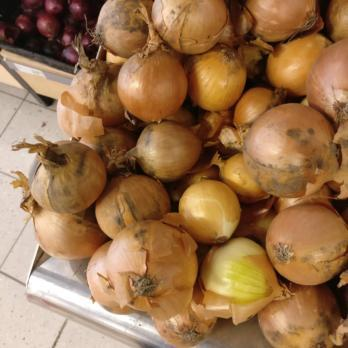Onion: (92, 0, 348, 348), (15, 129, 129, 262)
